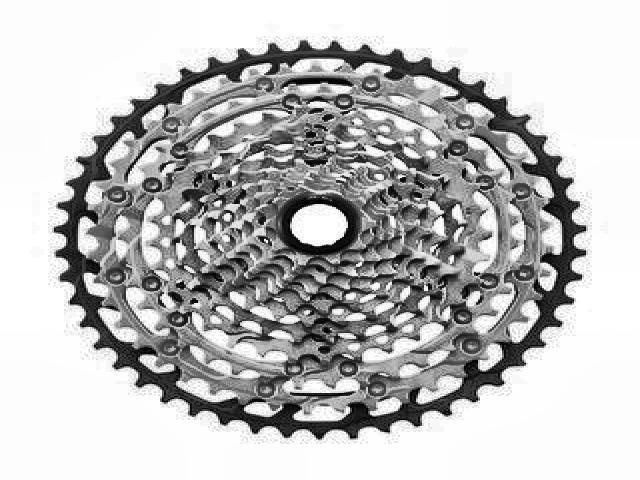cassette: (51, 35, 587, 441)
